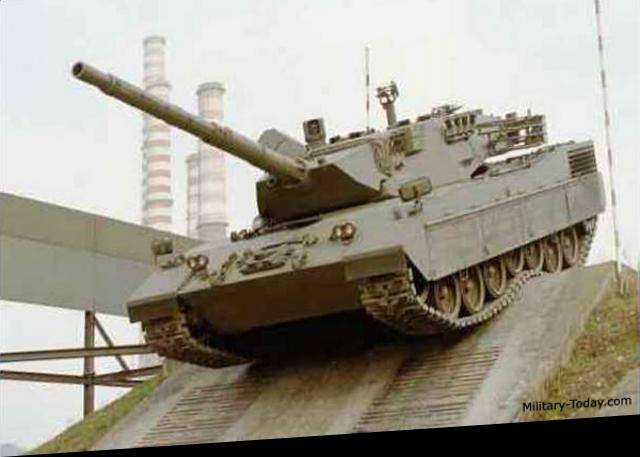tank: (126, 106, 604, 367)
